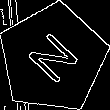N_SE: (21, 27, 85, 90)
